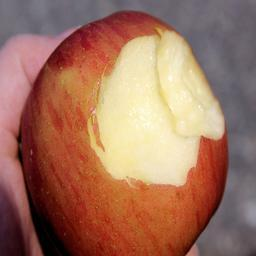apple: (15, 10, 227, 252)
